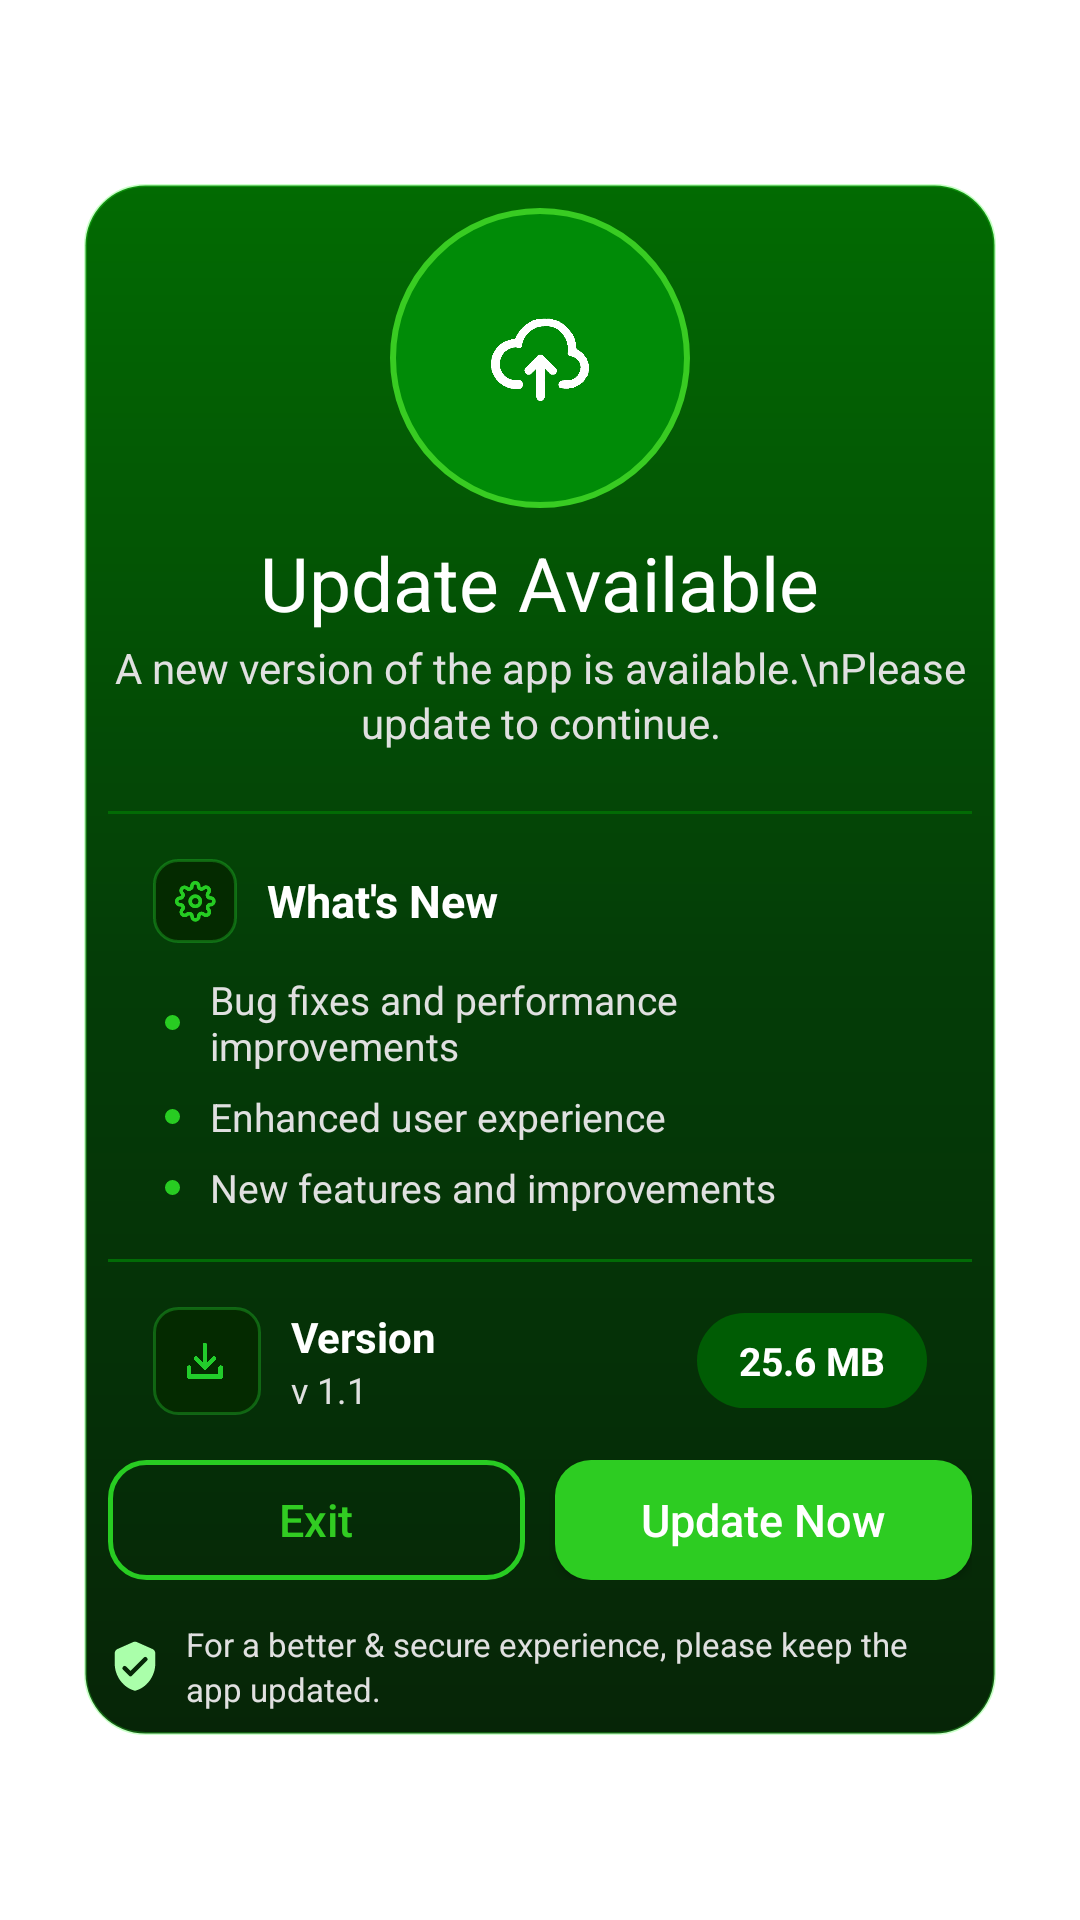

Icon bounding boxes for this 1080×1920 phone screenshot, format rect(x1, y1, x2, y2):
download: rect(153, 1307, 261, 1415)
setting: rect(153, 859, 237, 943)
upload cloud: rect(390, 208, 690, 508)
verified user: rect(114, 1641, 156, 1691)
